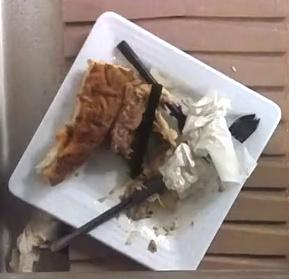pizza_crust: (35, 59, 149, 182)
